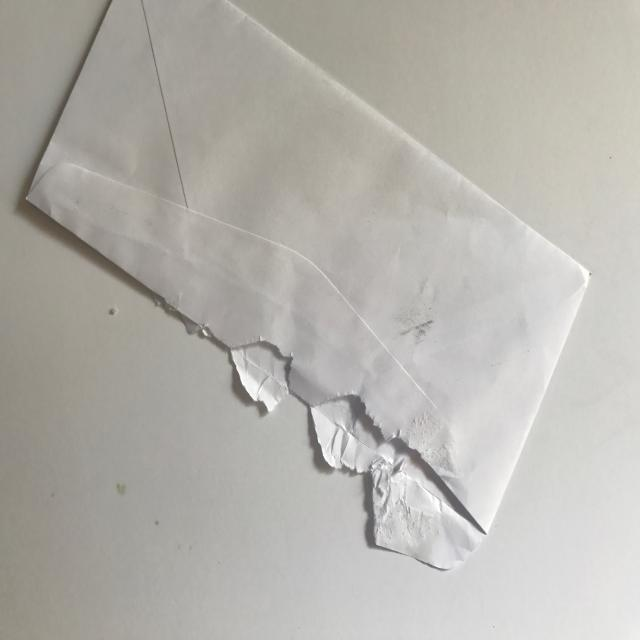Paper: (26, 0, 590, 570)
